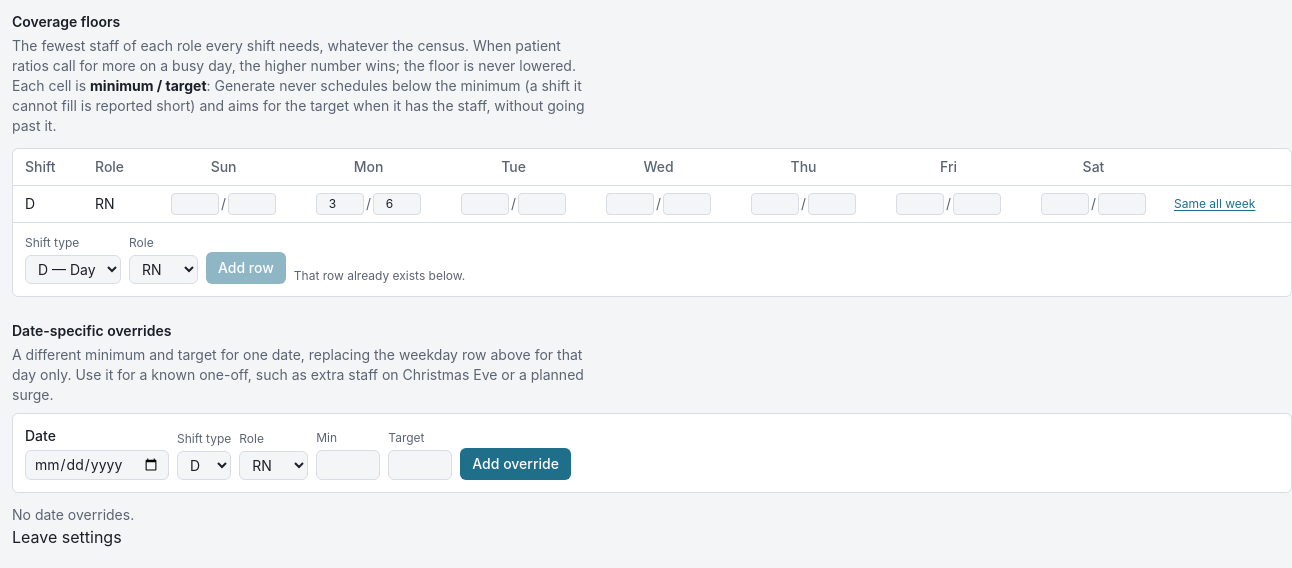
Test: Settings › Coverage floors › shows a refused Same all week beside the button, once
Check: the heading "Coverage floors" is shown, box [12, 13, 120, 30]
Click the button "Same all week".
click(1215, 204)  # box [1174, 196, 1255, 212]
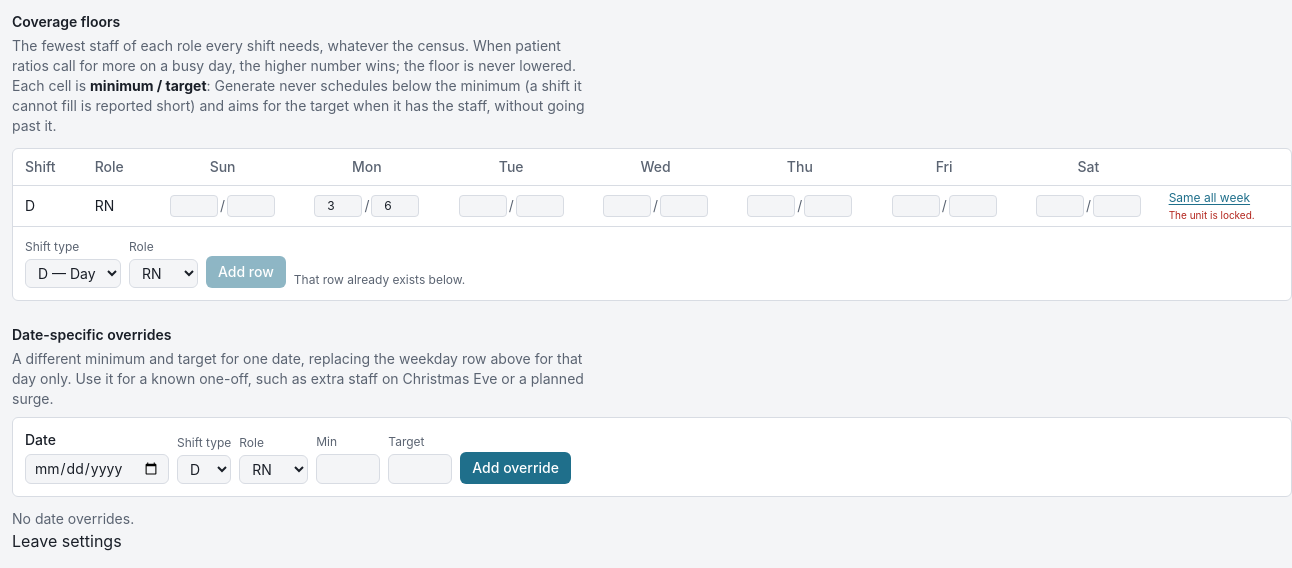
Check: the text "The unit is locked." is shown once, box [1169, 208, 1255, 222]
